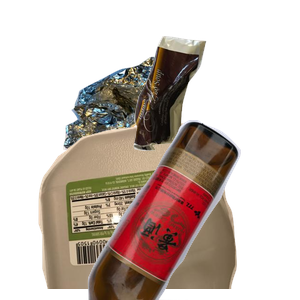glass: (85, 120, 300, 300)
metal: (61, 54, 225, 202)
plastic: (36, 120, 265, 300)
trash: (131, 34, 300, 177)
